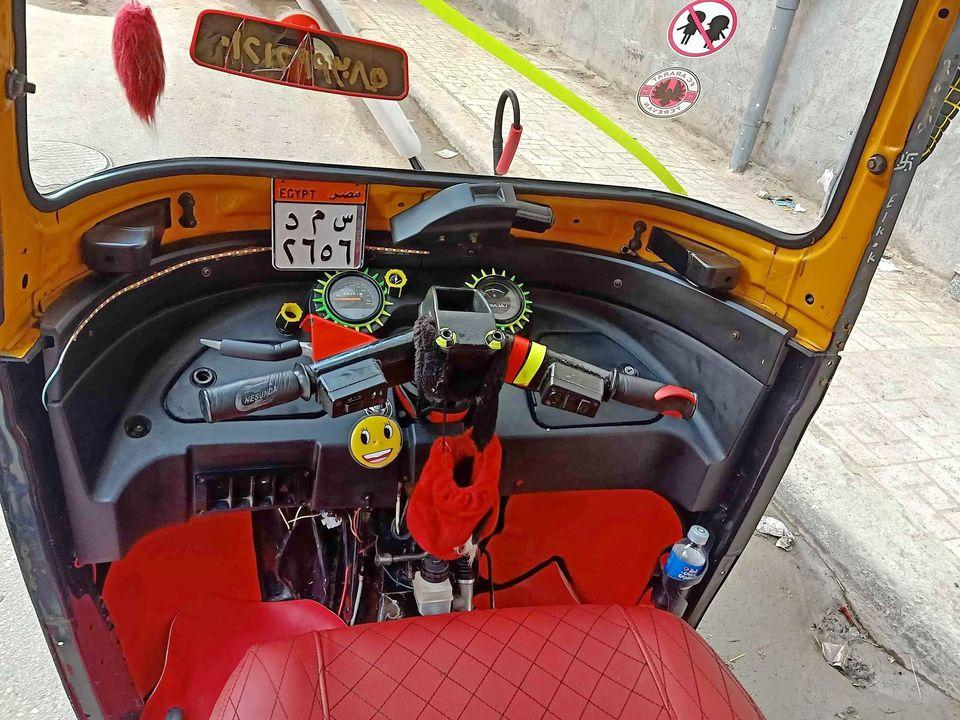License Plate: (270, 178, 366, 272)
